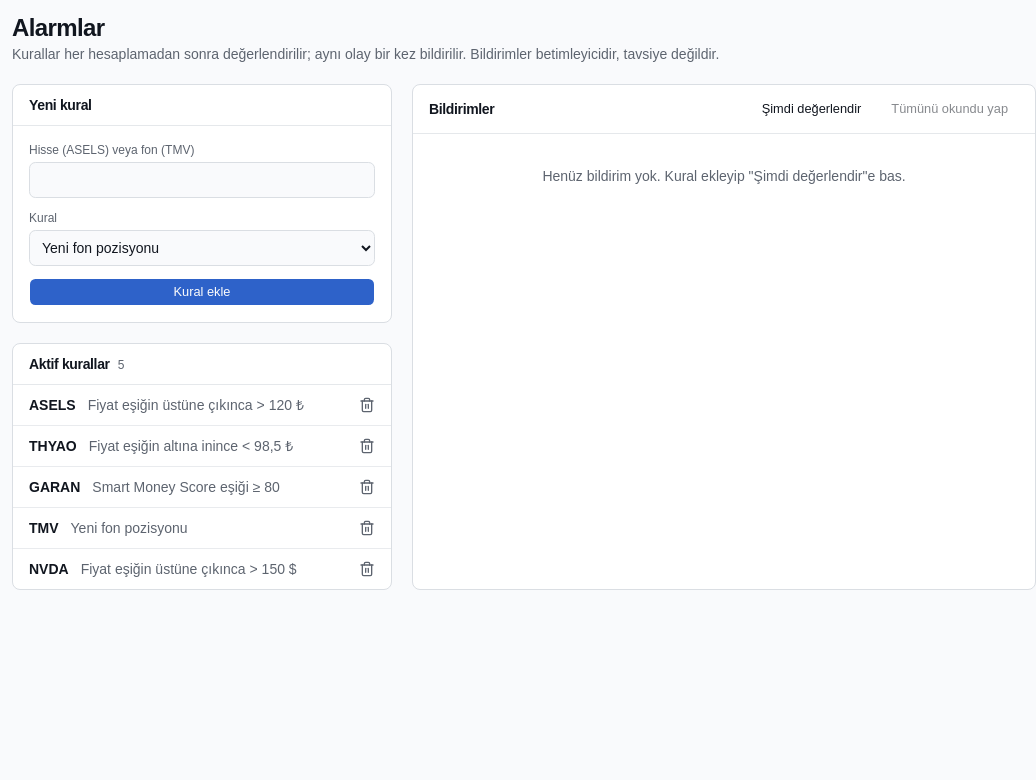
Test case: AlertsPage price rules › offers both price rules in the type select and shows the price field, in the market currency, when one is picked
The image size is (1036, 780).
Expected: the text "Fiyat eşiği (TRY)" is not shown
Select "Fiyat eşiğin üstüne çıkınca" in the dropdown at [202, 248], box [29,230,375,266]
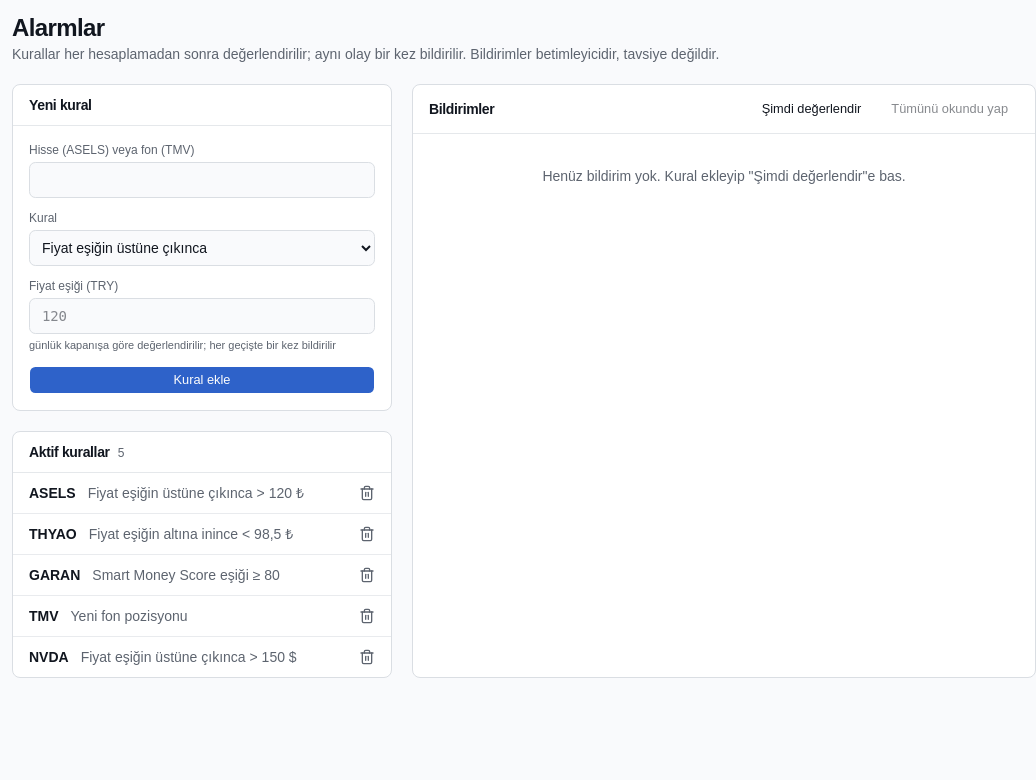
Expected: the text "Fiyat eşiği (TRY)" is shown, [29,279,118,293]
Expected: the text "günlük kapanışa göre değerlendirilir; her geçişte bir kez bildirilir" is shown, [29,338,375,354]
